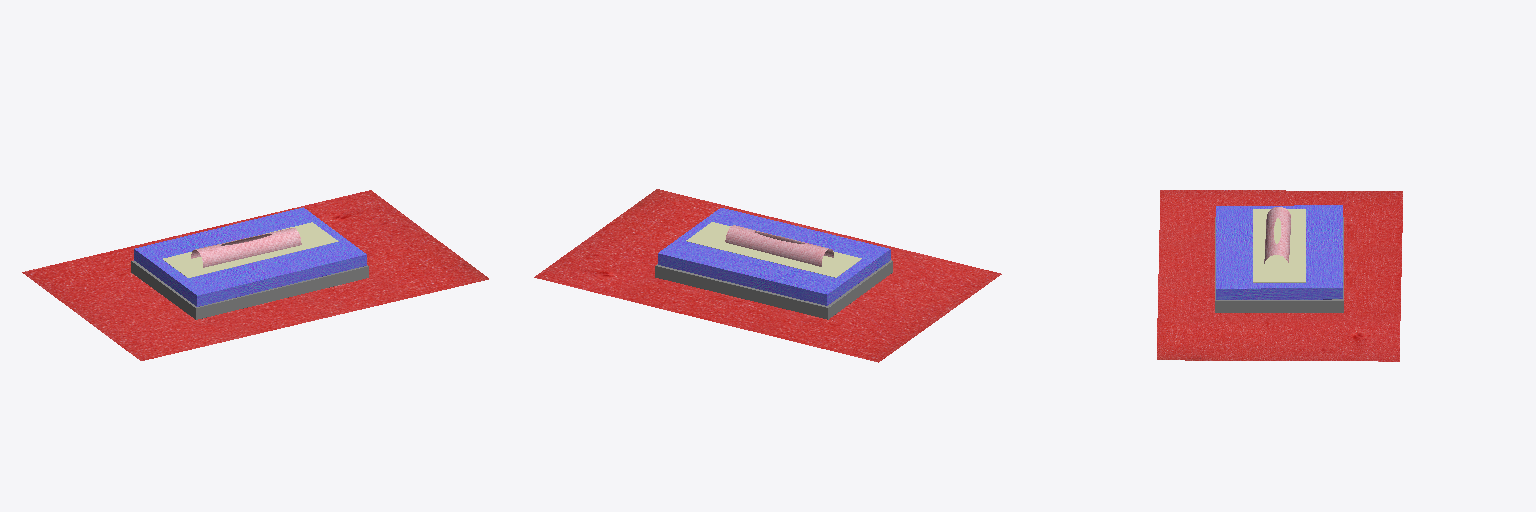
3 views of the same model, side by side, from view 1: azimuth 30°, elevation 25°; view 2: azimuth 150°, elevation 25°; view 3: azimuth 270°, elevation 25° (orthographic).
Visible parts, largest first — view 1: Box01, Sponge, Base, Cylinder02, Velcro1; view 2: Box01, Sponge, Base, Velcro1, Cylinder02; view 3: Box01, Sponge, Velcro1, Base, Cylinder02.
Boxes of the visible parts, <box> form: Box01: <box>22,190,488,360</box>; Sponge: <box>134,207,366,306</box>; Base: <box>131,261,368,319</box>; Cylinder02: <box>191,228,301,267</box>; Velcro1: <box>163,222,338,277</box>; Box01: <box>534,189,1001,362</box>; Sponge: <box>658,208,890,305</box>; Base: <box>655,260,892,319</box>; Velcro1: <box>686,222,861,277</box>; Cylinder02: <box>725,225,833,266</box>; Box01: <box>1157,190,1402,361</box>; Sponge: <box>1216,205,1342,299</box>; Velcro1: <box>1253,209,1305,282</box>; Base: <box>1215,217,1343,312</box>; Cylinder02: <box>1264,207,1290,263</box>.
Bounding box in the file's own units: 7.82 × 0.8724 × 4.79.
4 materials, 4 textured.